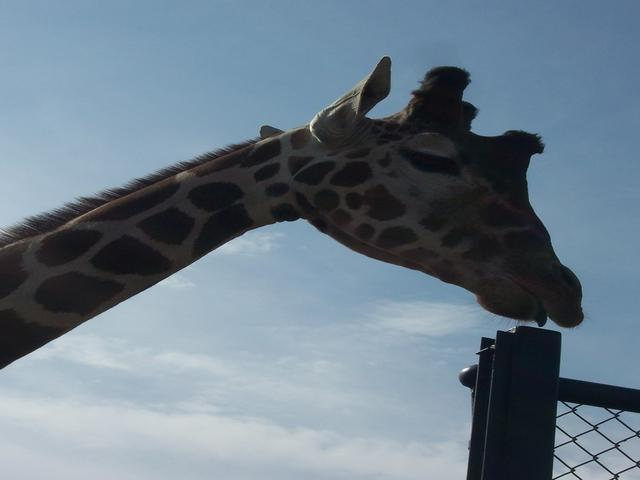giraffe: (63, 35, 593, 337)
